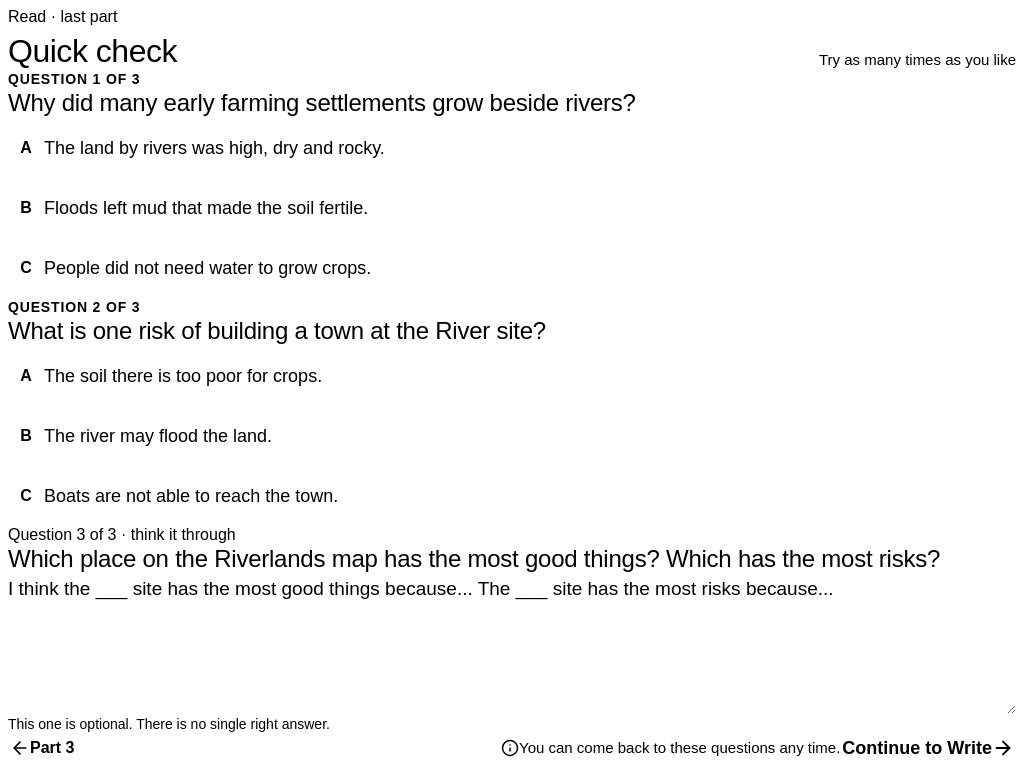
Test: ReadStage: quick check › stores the content index of the chosen option, not its shown position
Click the radio button labelled "B Floods left mud that made the soil fertile." at [206, 208], box 8,178 -> 1016,238
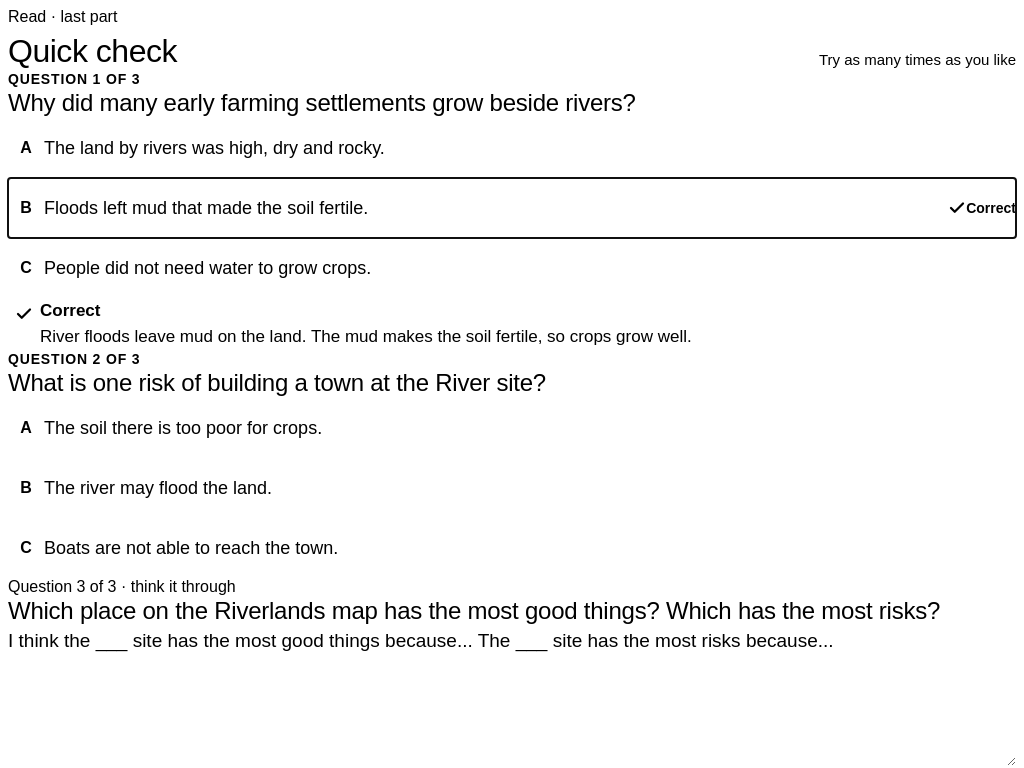
expect the text "River floods leave mud on the land. The mud makes the soil fertile, so crops grow well." is shown: met, box 40,327 -> 692,346
expect the text "Correct" is shown: met, box 40,301 -> 100,320
